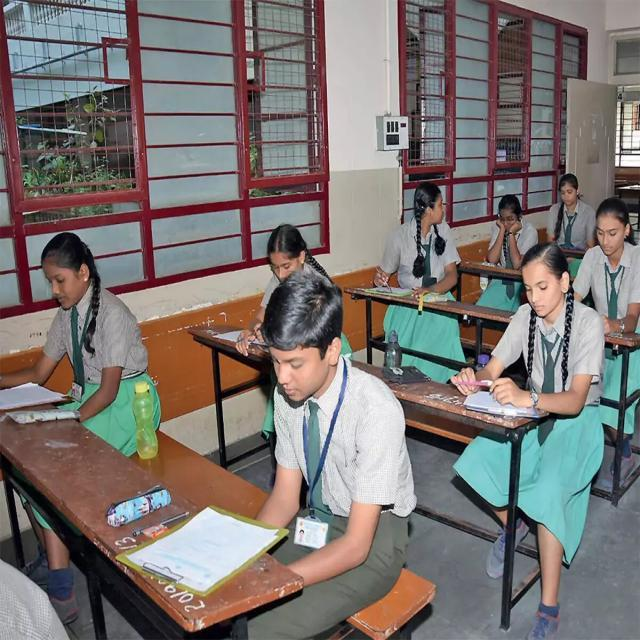cheating: (373, 170, 473, 309)
good: (113, 259, 417, 613), (443, 237, 613, 423), (9, 217, 123, 434)
